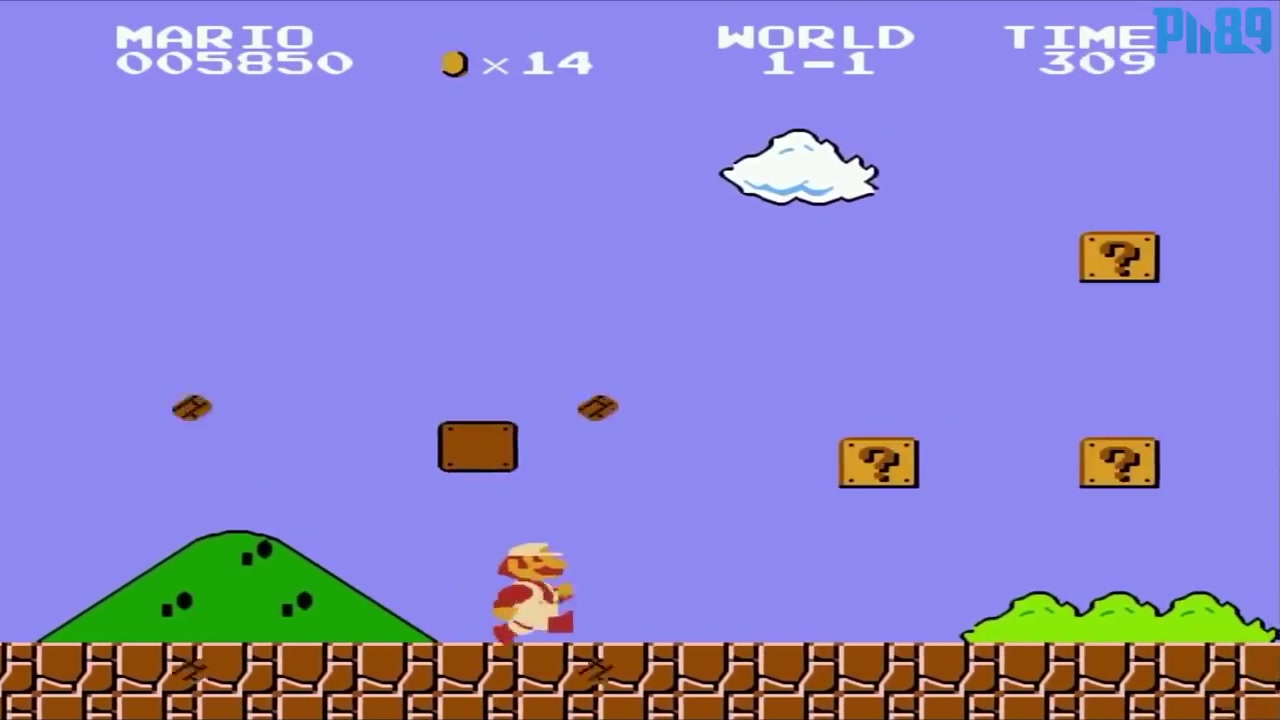mario: (486, 536, 578, 649)
